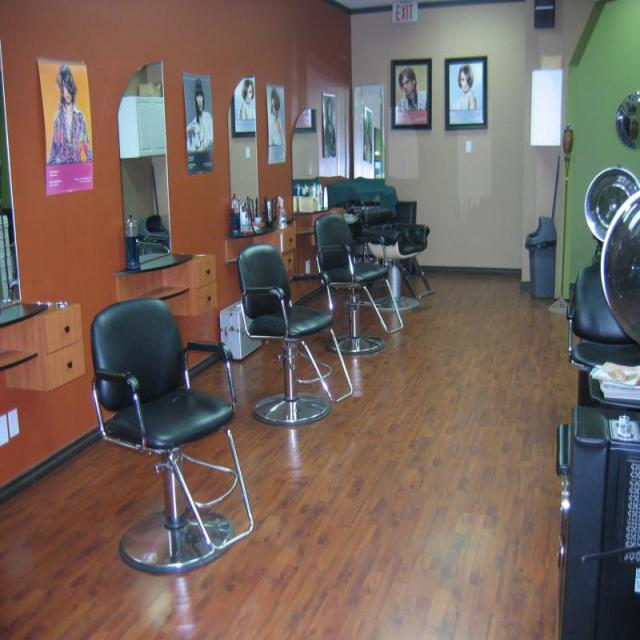2034: (0, 121, 174, 137)
bottle crop: (79, 97, 85, 119)
cupboard crop: (104, 134, 174, 251), (68, 0, 173, 67)
cupboard door: (0, 163, 38, 272)
door bars: (173, 0, 204, 271)
flask crop: (17, 86, 34, 122), (0, 85, 16, 122)
floor -X: (36, 235, 173, 272)
sink basin: (132, 122, 172, 129)
wall clock: (18, 0, 173, 123)
washing machine: (0, 130, 41, 245)
washing machine crop: (41, 133, 111, 256)
